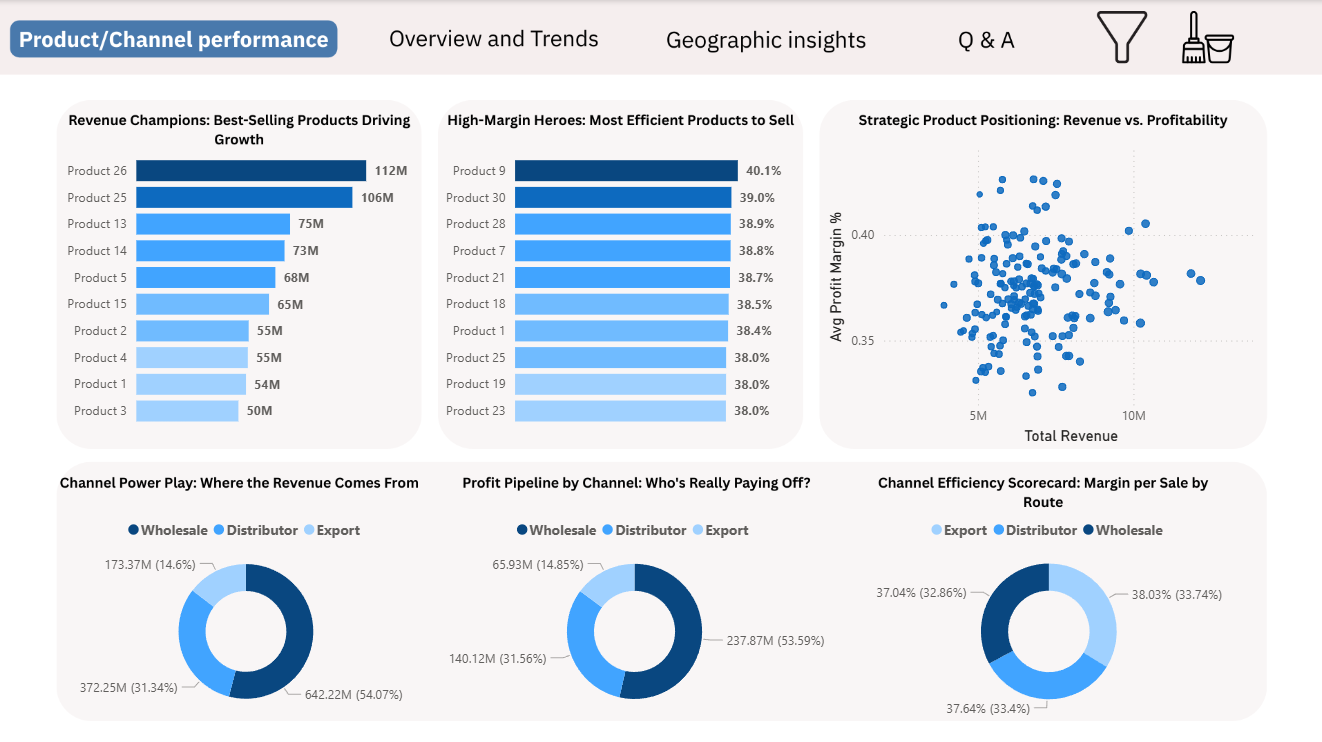

This screenshot's page, from the dashboard's own definition file:
{"tool":"powerbi","page":{"name":"product/channel performance","canvas":[1280,720],"ordinal":2},"visuals":[{"type":"actionButton","box":[882.3,16.5,123.5,52.1],"z":0},{"type":"actionButton","box":[639.5,16.5,201.7,52.1],"z":1000},{"type":"actionButton","box":[363.6,16.5,238.8,42.5],"z":2000},{"type":"barChart","fields":{"Category":["cleaned_Region_sales_analysis.product_name"],"Y":["Custom Measures.Total Revenue"]},"box":[57,131.4,354.5,291.2],"z":3000},{"type":"barChart","fields":{"Y":["Custom Measures.Profit Margin %"],"Category":["cleaned_Region_sales_analysis.product_name"]},"box":[422.6,131.4,348.2,291.2],"z":4000},{"type":"scatterChart","fields":{"X":["Customer Summary.Total Revenue"],"Y":["Customer Summary.Avg Profit Margin %"],"Size":["Sum(Customer Summary.Order Count)"]},"box":[796,131.4,436.8,302.3],"z":5000},{"type":"donutChart","fields":{"Category":["cleaned_Region_sales_analysis.channel"],"Y":["Custom Measures.Profit Margin %"]},"box":[807.1,490.6,414.6,207.3],"z":6000},{"type":"donutChart","fields":{"Category":["cleaned_Region_sales_analysis.channel"],"Y":["Custom Measures.Total Profit"]},"box":[422.6,490.6,384.6,207.3],"z":7000},{"type":"donutChart","fields":{"Category":["cleaned_Region_sales_analysis.channel"],"Y":["Custom Measures.Total Revenue"]},"box":[57,490.6,365.6,207.3],"z":8000},{"type":"actionButton","box":[1128.3,0,86.5,68.1],"z":9000},{"type":"actionButton","box":[1041.8,0,86.5,68.1],"z":10000}]}

Visuals, with their boxes in screenshot pixels (x1, y1, x2, y2), scaled from the page's 1280x720 canvas onto the 1322x742 screenshot:
actionButton: x1=911, y1=17, x2=1039, y2=71
actionButton: x1=660, y1=17, x2=869, y2=71
actionButton: x1=376, y1=17, x2=622, y2=61
barChart - cleaned_Region_sales_analysis.product_name x Custom Measures.Total Revenue: x1=59, y1=135, x2=425, y2=436
barChart - Custom Measures.Profit Margin % x cleaned_Region_sales_analysis.product_name: x1=436, y1=135, x2=796, y2=436
scatterChart - Customer Summary.Total Revenue x Customer Summary.Avg Profit Margin %: x1=822, y1=135, x2=1273, y2=447
donutChart - cleaned_Region_sales_analysis.channel x Custom Measures.Profit Margin %: x1=834, y1=506, x2=1262, y2=719
donutChart - cleaned_Region_sales_analysis.channel x Custom Measures.Total Profit: x1=436, y1=506, x2=834, y2=719
donutChart - cleaned_Region_sales_analysis.channel x Custom Measures.Total Revenue: x1=59, y1=506, x2=436, y2=719
actionButton: x1=1165, y1=0, x2=1255, y2=70
actionButton: x1=1076, y1=0, x2=1165, y2=70
